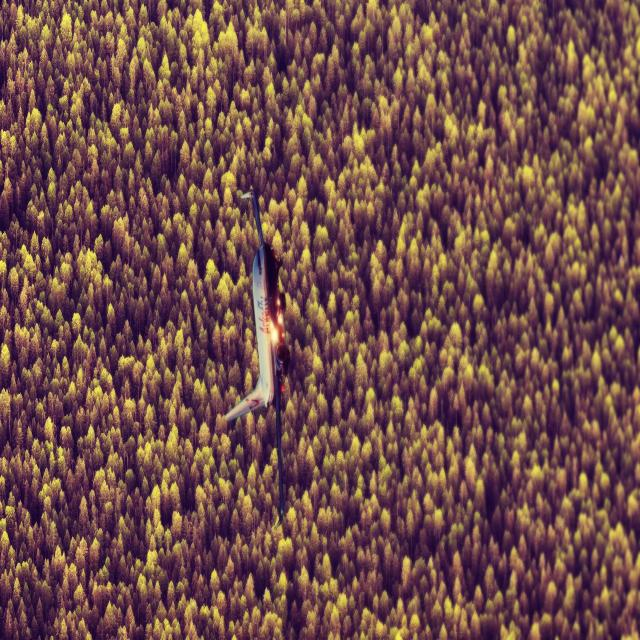airplane: (224, 186, 290, 527)
